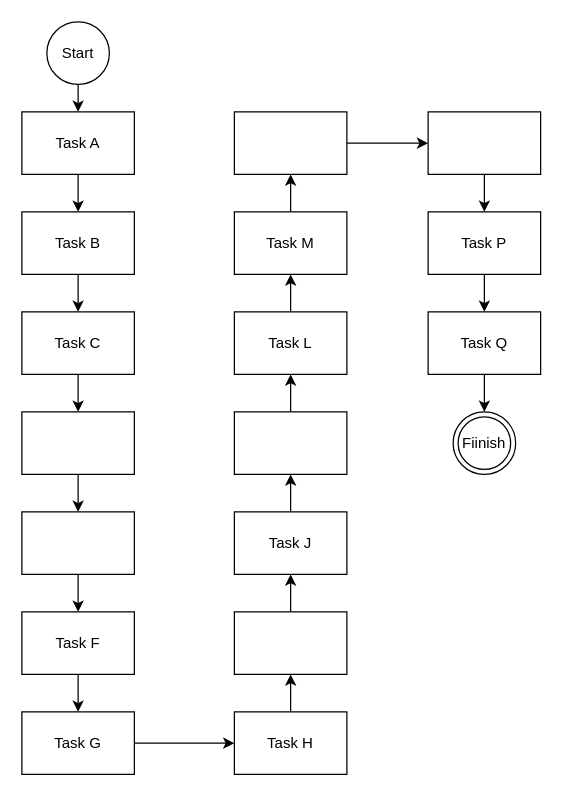
Some shapes in this 563 by 796 pixel diagram are drawn without their labels. The shapes that lost their labels are listed below. From the top down, each one's centre as x and y in pixels, then its label:
point (290, 142): Task N
point (484, 142): Task O
point (77, 442): Task D
point (290, 442): Task K
point (77, 542): Task E
point (290, 642): Task I
